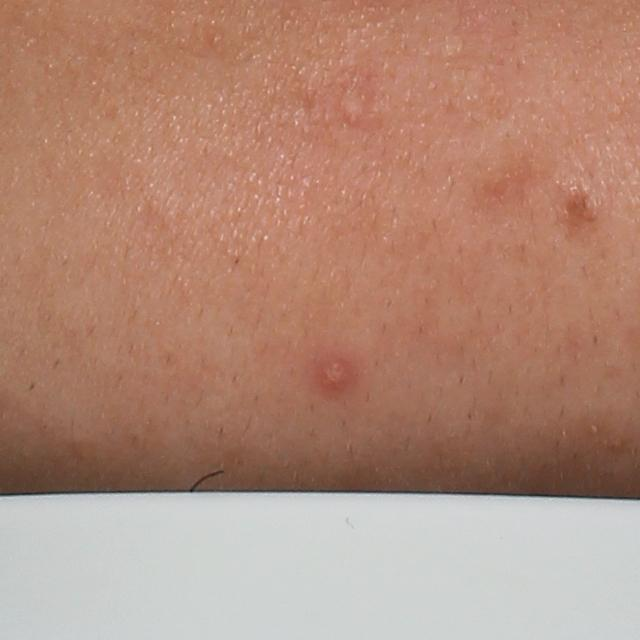papule: (311, 347, 362, 400)
